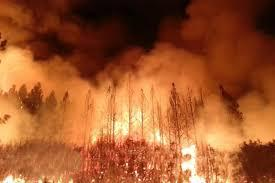fire: (85, 111, 173, 149), (177, 145, 208, 182)
smoke: (1, 1, 268, 90)
